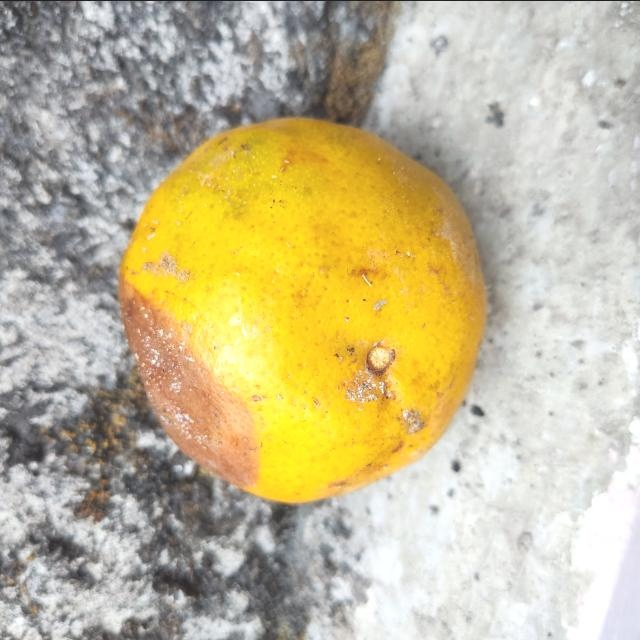agrume: (116, 116, 484, 504)
